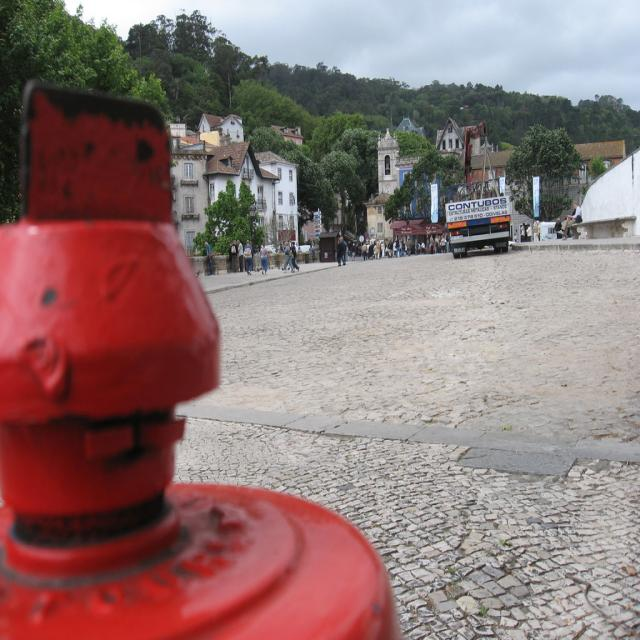fire_hydrant: (0, 81, 402, 640)
